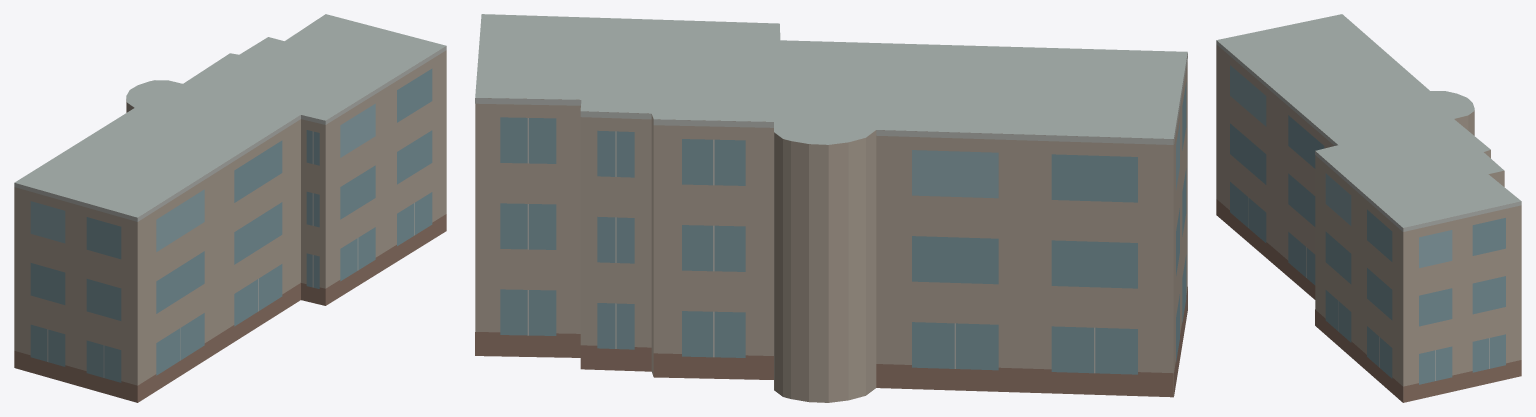
Rendered from survey-upis-32983383.glb.
3 views of the same model, side by side, from view 1: azimuth 30°, elevation 25°; view 2: azimuth 150°, elevation 25°; view 3: azimuth 270°, elevation 25° (orthographic). The views are drawn at different scales.
Visible parts, largest first — view 1: survey-upis-32983383.tmp; view 2: survey-upis-32983383.tmp; view 3: survey-upis-32983383.tmp.
Boxes of the visible parts, x1,y1,x2,y2 form: survey-upis-32983383.tmp: (14, 14, 446, 402); survey-upis-32983383.tmp: (475, 14, 1187, 402); survey-upis-32983383.tmp: (1216, 14, 1521, 402).
Size of the model in its own units: 27.84 by 10.6 by 16.79.
